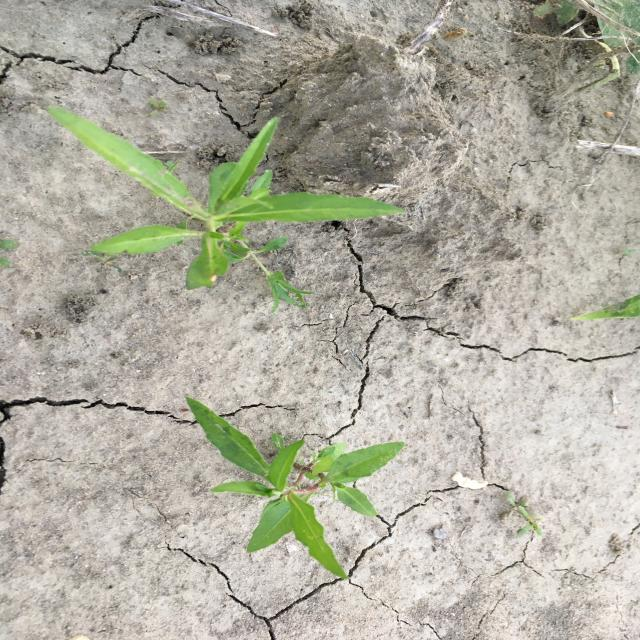Eclipta: (44, 103, 408, 312), (182, 393, 406, 581)
